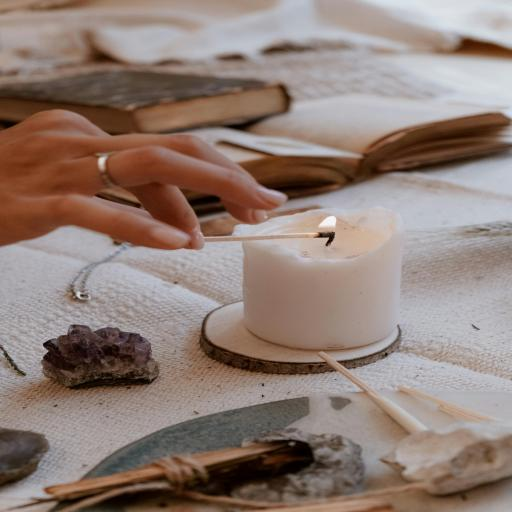candlelight: (245, 186, 422, 347)
